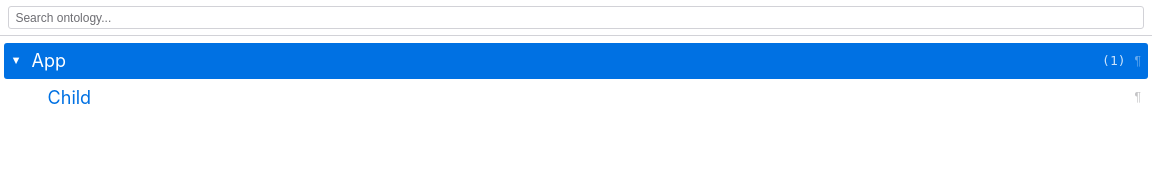
Scenario: OntologyTree component › definition toggle shows textarea
Step 1. Click the button "¶" in the row of "App" → [1138, 61], box [1132,55,1144,67]
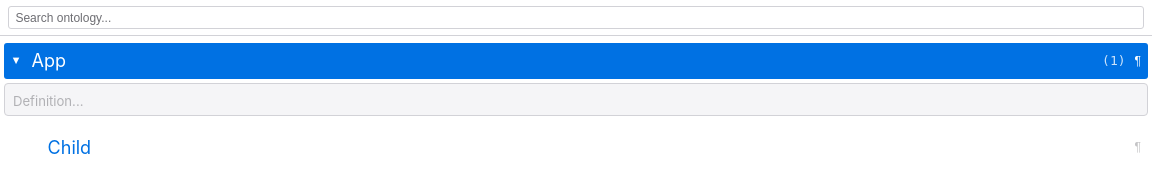
Check: the text box with placeholder "Definition..." is shown, box [4,83,1148,116]
